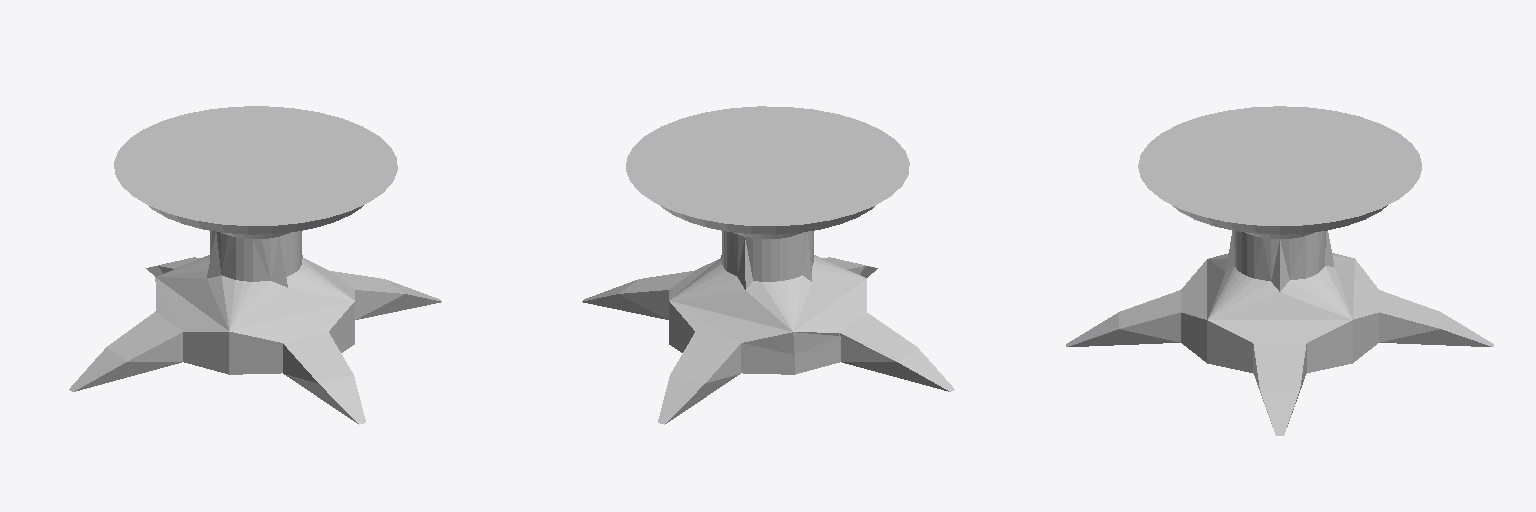
The model's file is pilon.obj.
3 renders of one model, left to right at view 1: azimuth 30°, elevation 25°; view 2: azimuth 150°, elevation 25°; view 3: azimuth 270°, elevation 25°, orthographic.
Visible parts, largest first — view 1: Cube; view 2: Cube; view 3: Cube.
Boxes of the visible parts, x1,y1,x2,y2 form: Cube: [69, 106, 441, 424]; Cube: [582, 106, 954, 424]; Cube: [1066, 106, 1493, 435].
Bounding box in the file's own units: 7.48 × 3.46 × 7.48.